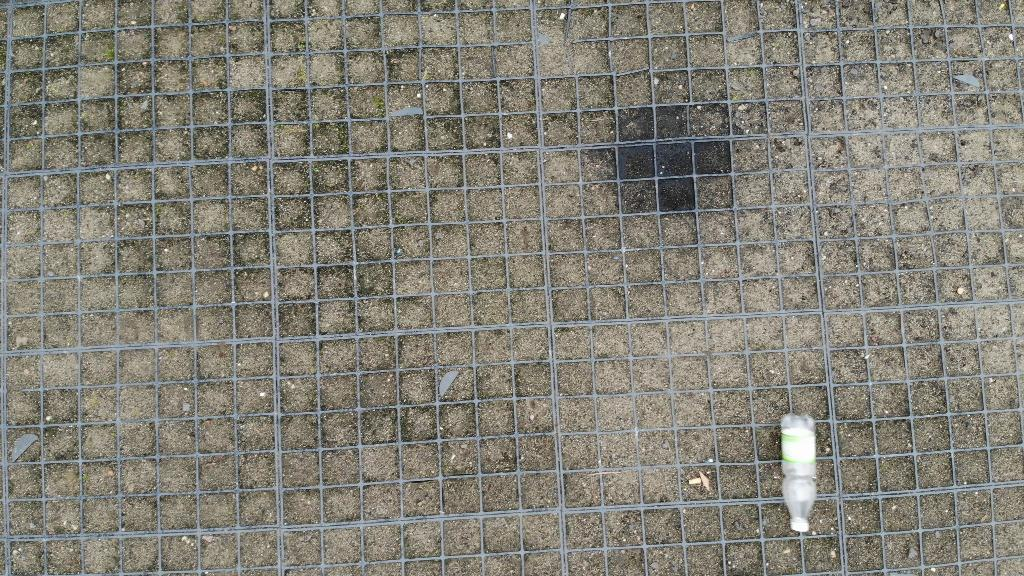garbage: (780, 409, 819, 533)
